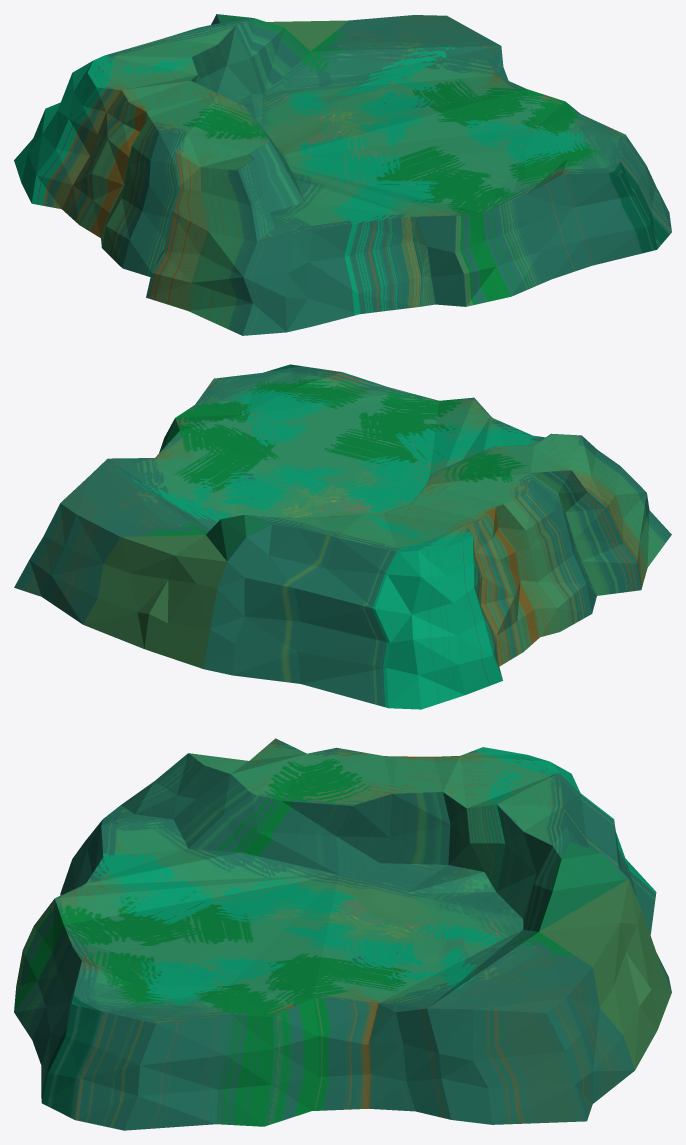
Rendered from mountain.glb.
The picture shows the model from 3 angles, top to bottom: view 1: azimuth 30°, elevation 25°; view 2: azimuth 150°, elevation 25°; view 3: azimuth 270°, elevation 25°; orthographic projection. The views are drawn at different scales.
Visible parts, largest first — view 1: mountain; view 2: mountain; view 3: mountain.
Boxes of the visible parts, <box> form: mountain: <box>14,14,671,335</box>; mountain: <box>14,364,671,709</box>; mountain: <box>14,738,671,1130</box>.
Size of what is drawn, in the model's own units: 67.92 by 16.5 by 68.05.
Materials: 1 (1 with a texture image).
